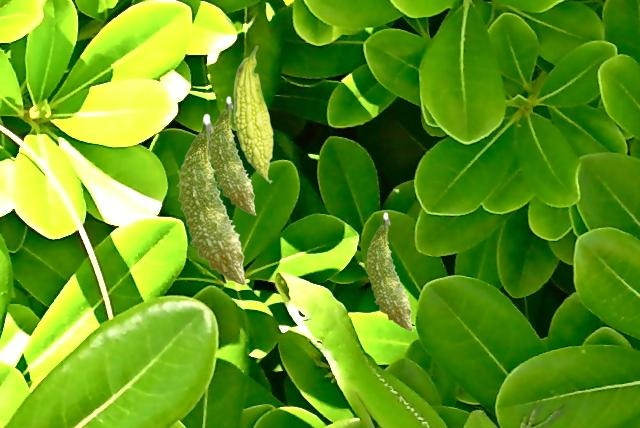ampalaya: (176, 113, 246, 285), (364, 212, 413, 331), (233, 45, 273, 184), (210, 96, 256, 215)
